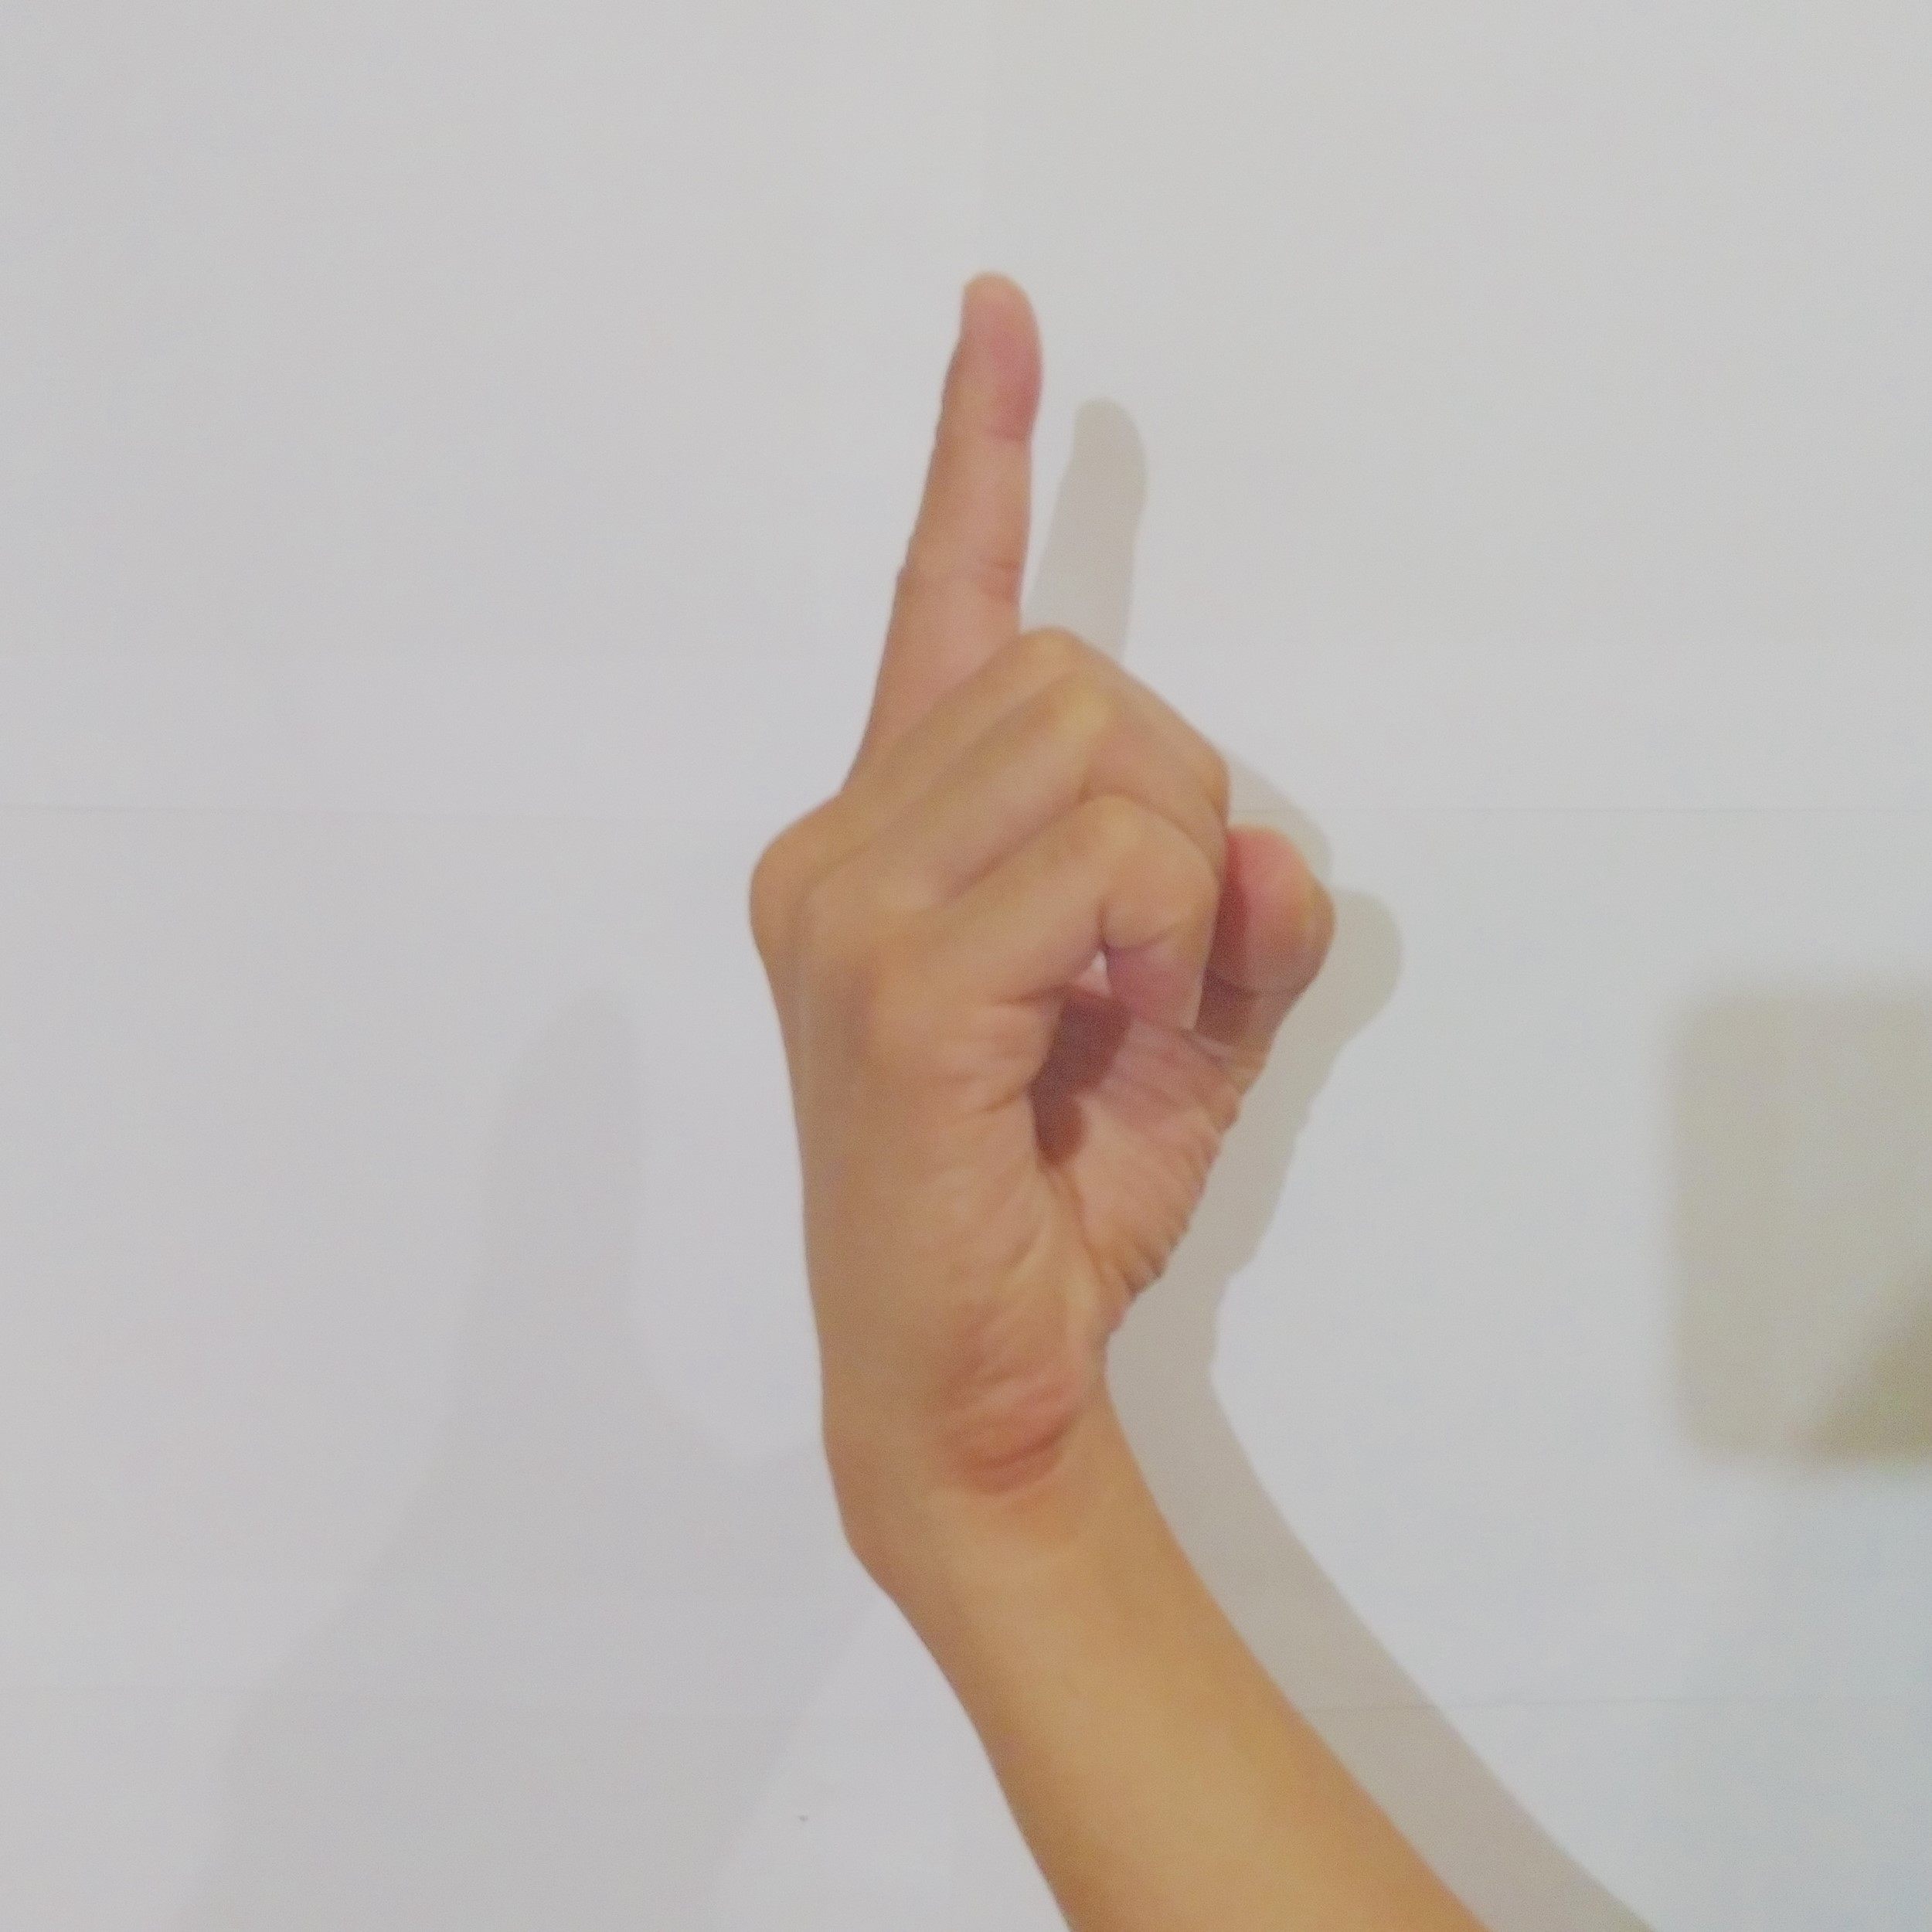D: (725, 249, 1361, 1440)
